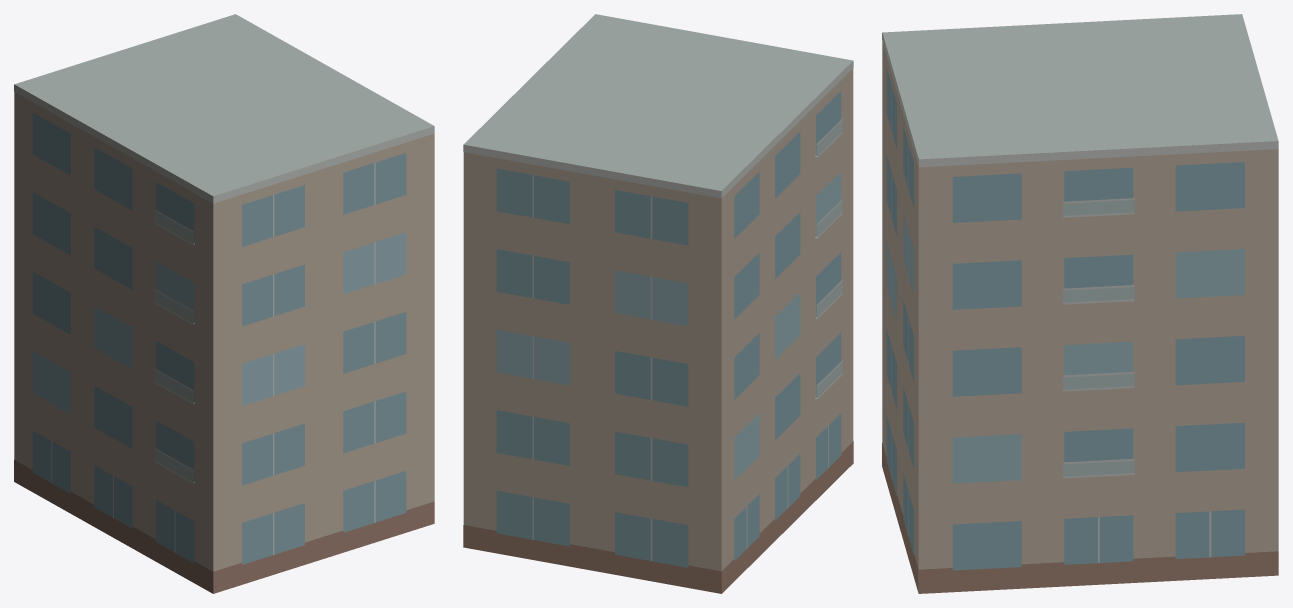
Rendered from survey-upis-32817601.glb.
3 renders of one model, left to right at view 1: azimuth 30°, elevation 25°; view 2: azimuth 150°, elevation 25°; view 3: azimuth 270°, elevation 25°, orthographic. The views are drawn at different scales.
Parts seen in each view (by area): view 1: survey-upis-32817601.tmp; view 2: survey-upis-32817601.tmp; view 3: survey-upis-32817601.tmp.
Boxes of the visible parts, <box> form: survey-upis-32817601.tmp: <box>14,14,434,593</box>; survey-upis-32817601.tmp: <box>463,14,853,593</box>; survey-upis-32817601.tmp: <box>882,14,1278,593</box>.
Bounding box in the file's own units: 9.48 × 13.2 × 10.92.
